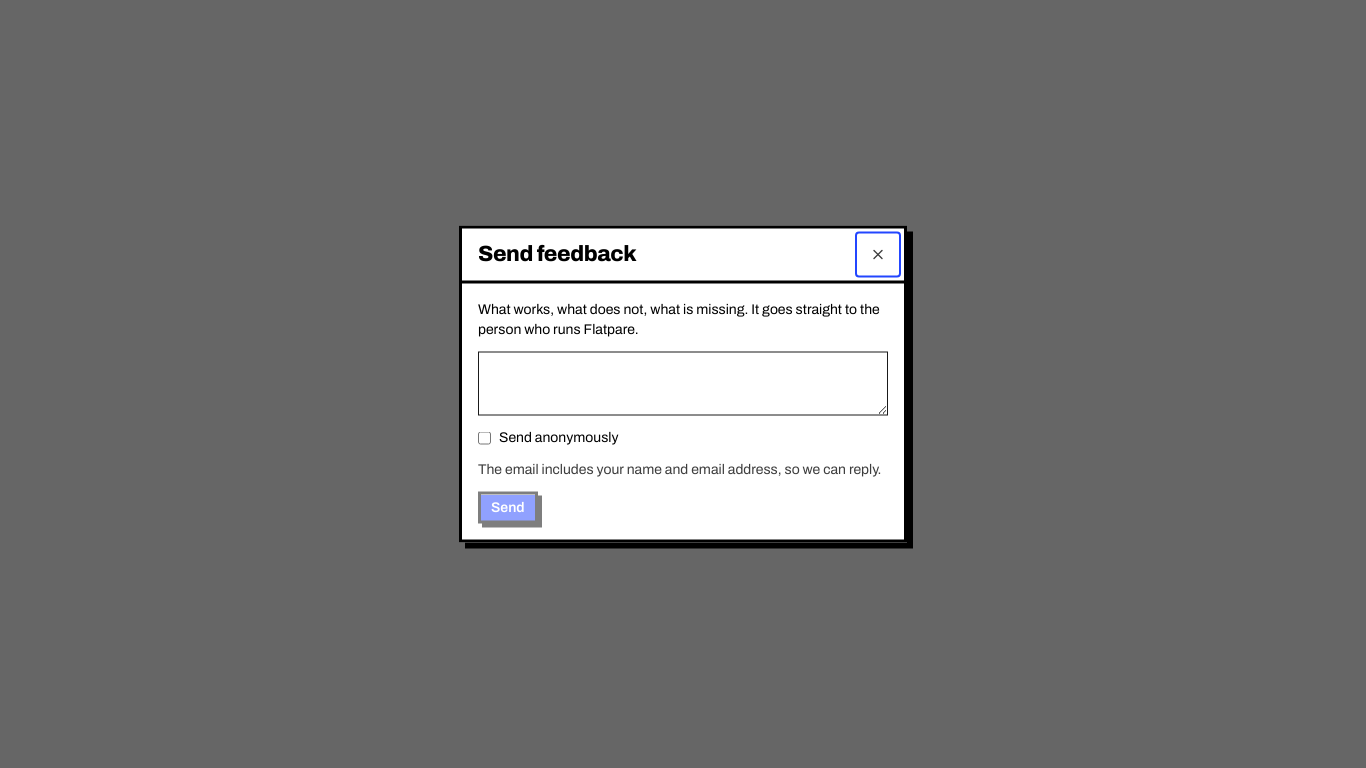
Test: FeedbackDialog › sends anonymously when ticked, and says what that means
Click the checkbox labelled "Send anonymously".
click(484, 438)  # box [478, 432, 491, 444]
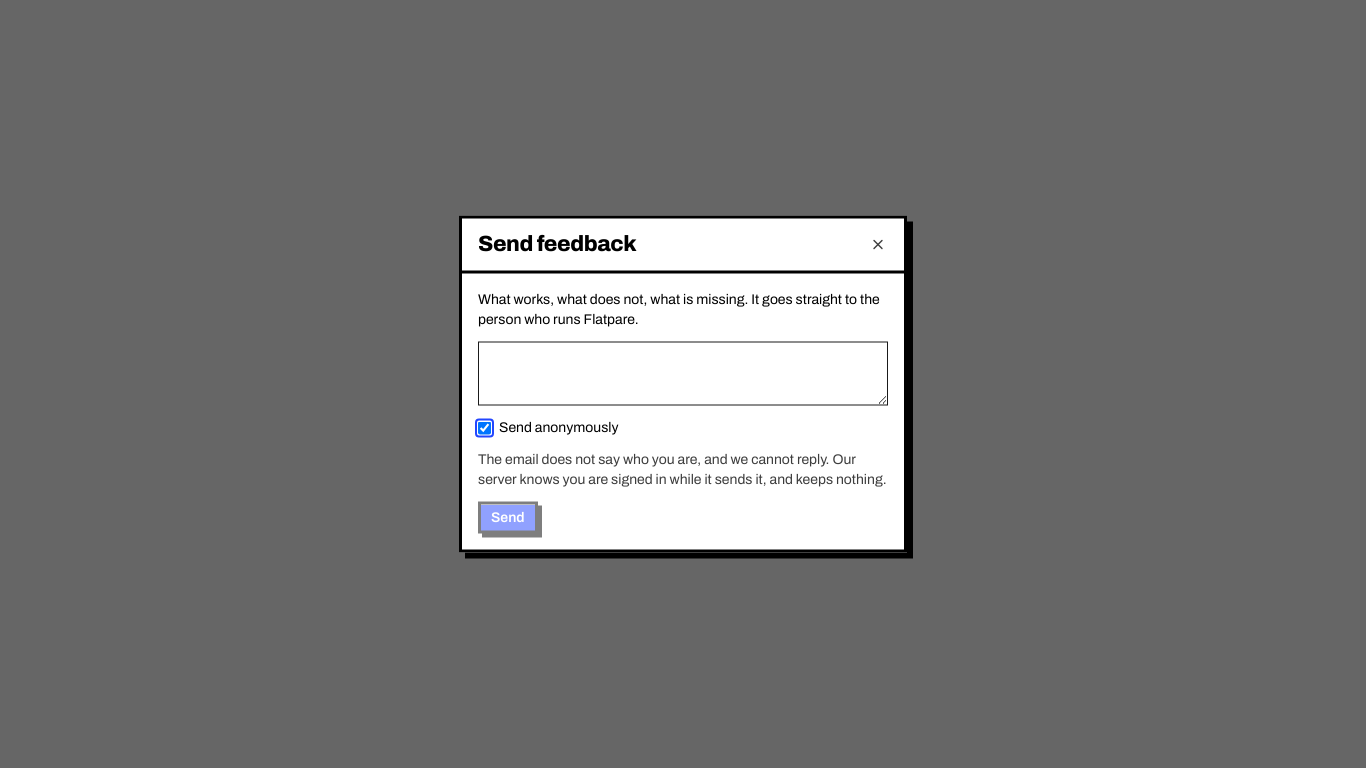
Check: the text "does not say who you are, and we cannot reply" is shown, box [478, 452, 887, 486]
Click the text box named "Your feedback".
click(683, 374)  # box [478, 342, 888, 406]
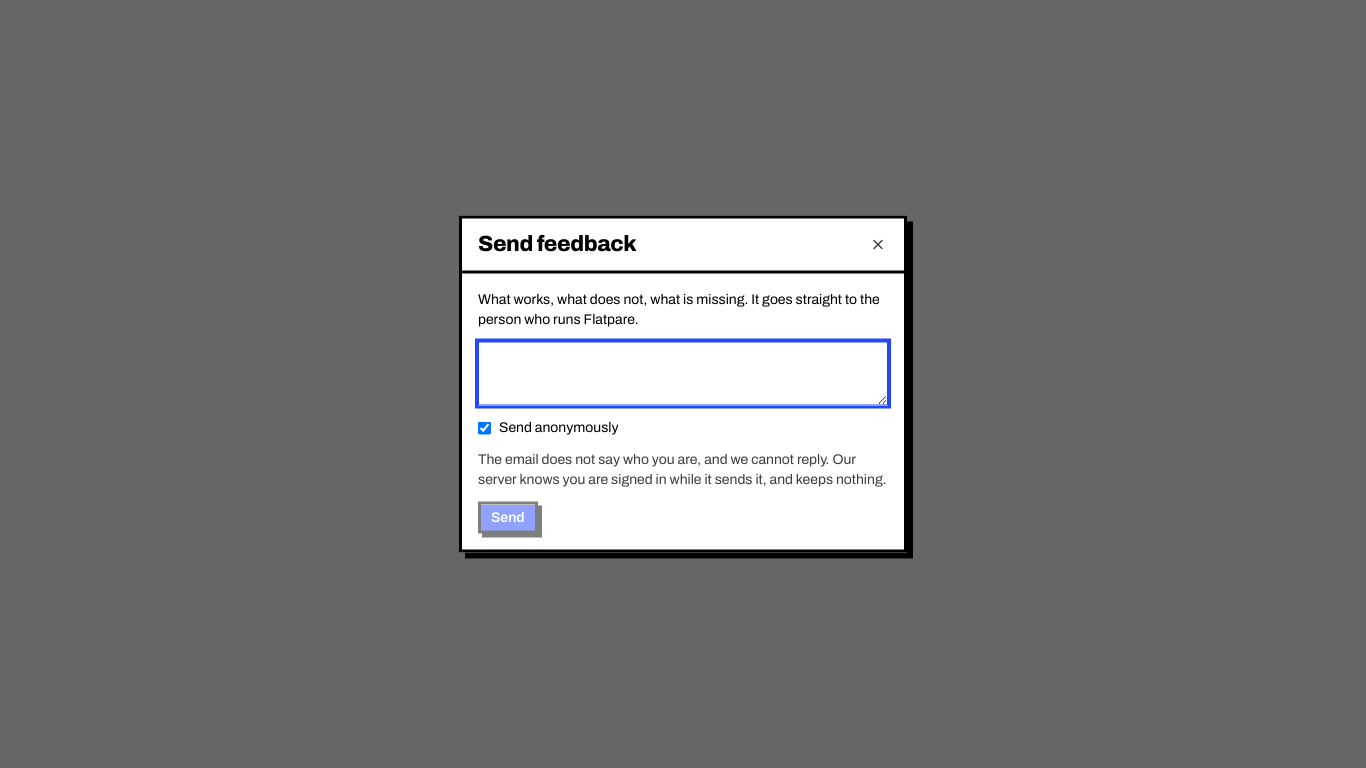
Type keys "Quietly"
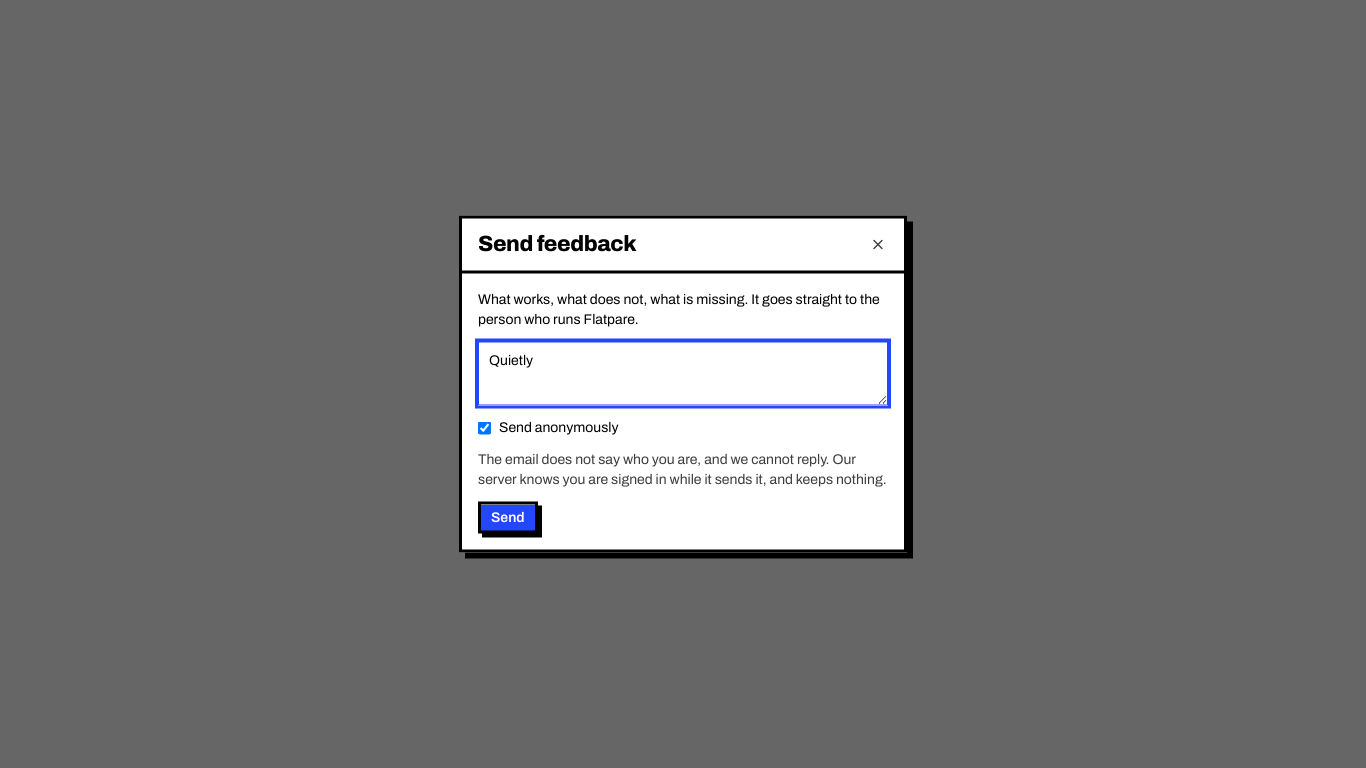
Click the button "Send".
click(508, 518)  # box [478, 502, 538, 534]
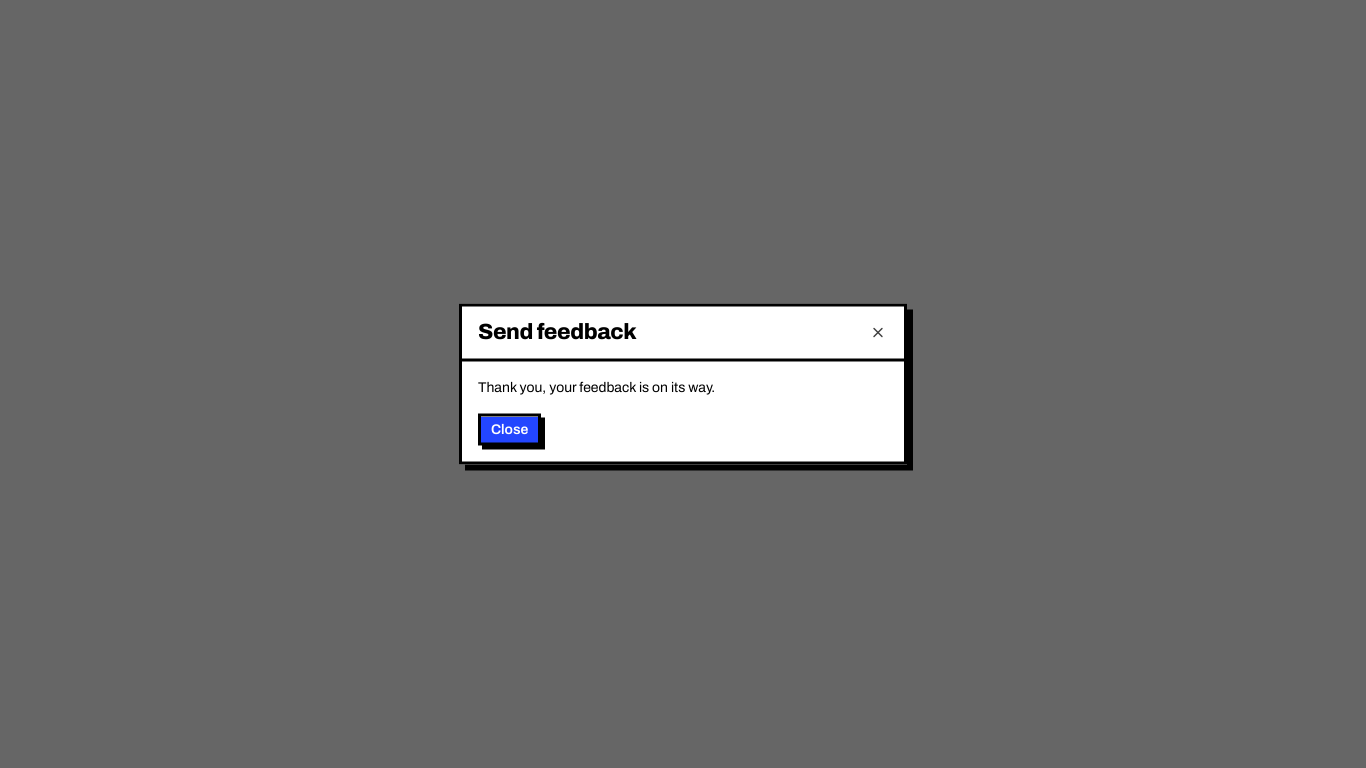
Check: the message "Thank you, your feedback is on its way." is shown, box [478, 380, 715, 394]
